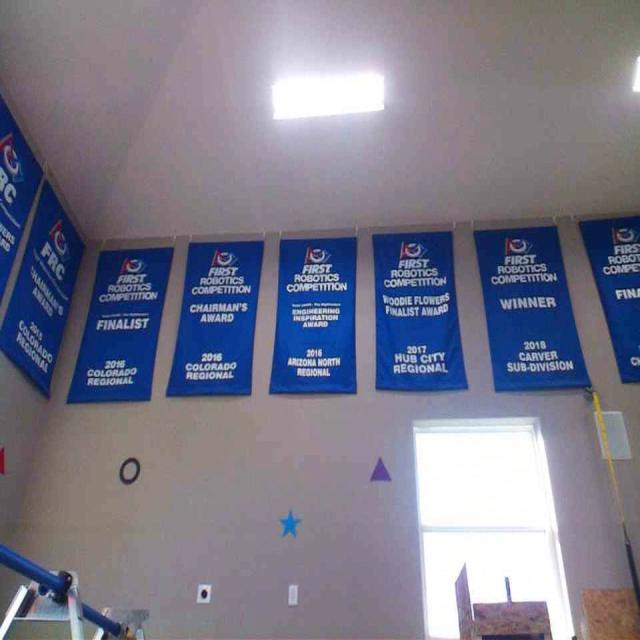ring_black: (118, 456, 141, 484)
star_blue: (278, 509, 300, 538)
triangle_purple: (368, 455, 392, 481)
